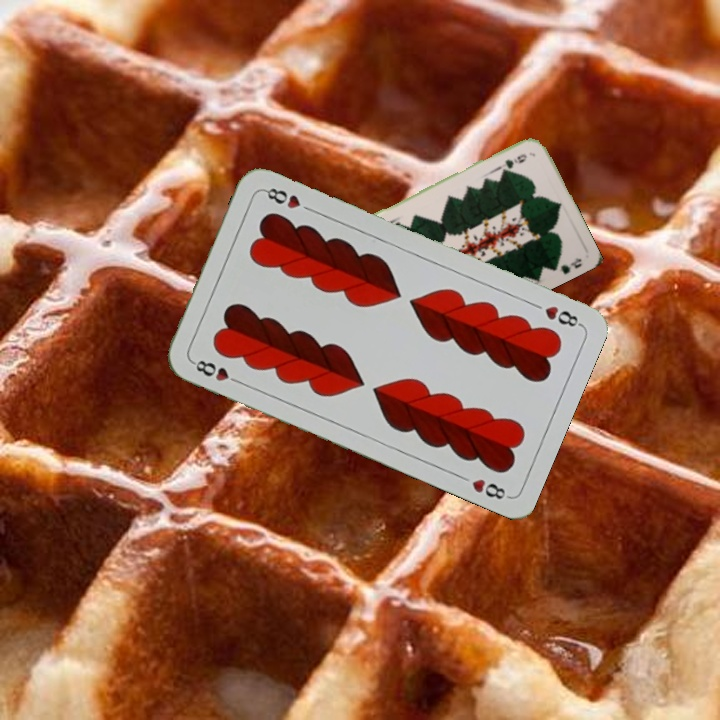G9: (501, 149, 529, 170)
H8: (188, 355, 244, 387), (540, 301, 584, 330)
